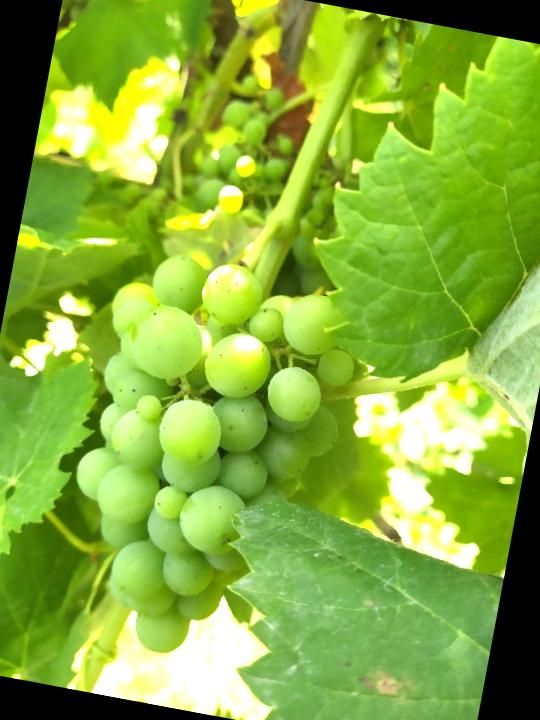grape: (43, 238, 368, 681)
